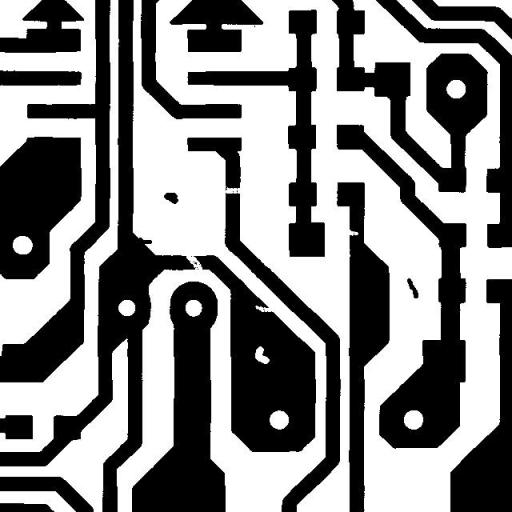copper: (399, 270, 426, 306), (156, 185, 186, 211)
mousebite: (247, 298, 282, 319), (336, 220, 366, 243)
open: (176, 243, 211, 281), (214, 178, 254, 200)
pin-hole: (247, 338, 277, 372)
spur: (130, 230, 160, 251)
